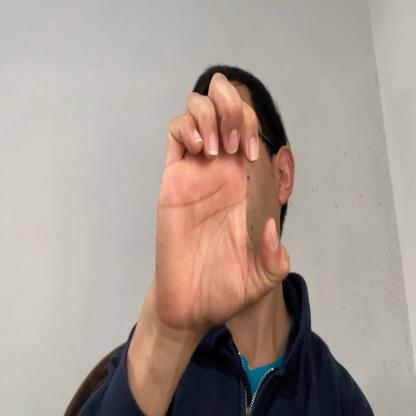E: (157, 72, 290, 326)
